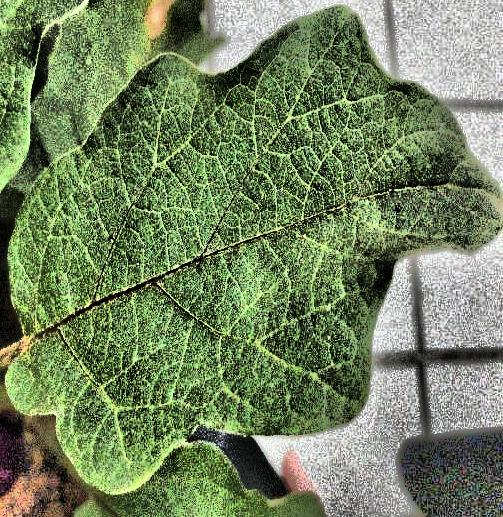HEALTHY: (0, 0, 503, 517)
